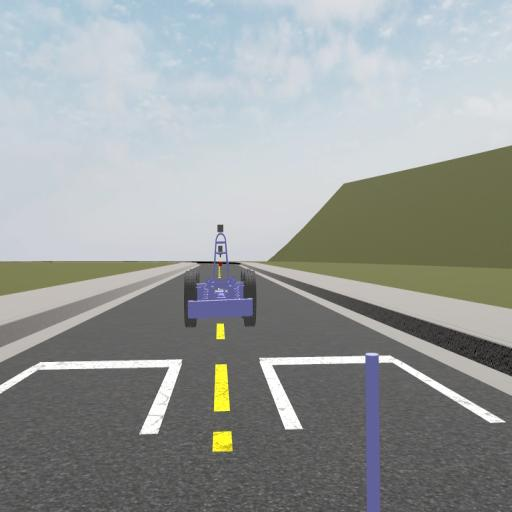ERP-42: (184, 224, 256, 327)
